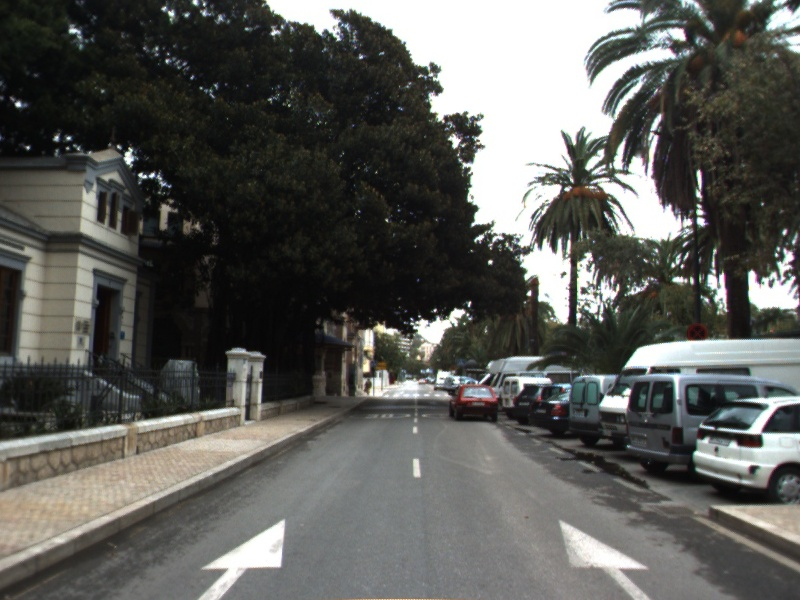STRAIGHT: (555, 515, 659, 600), (193, 514, 289, 600)
